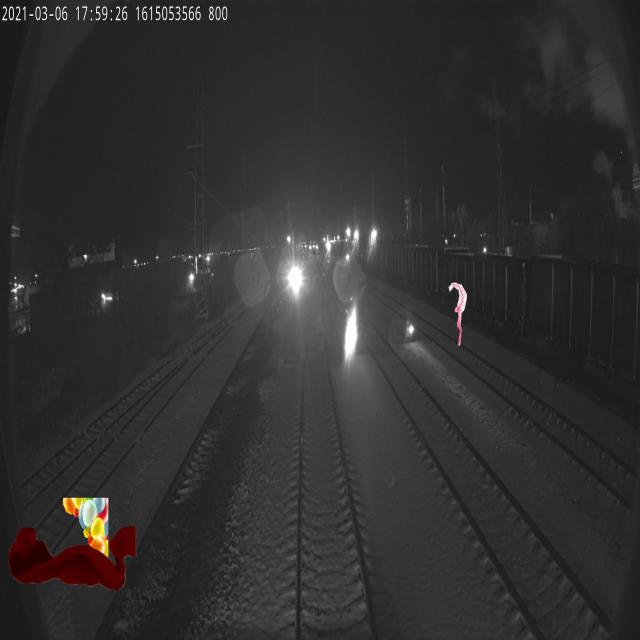balloon: (63, 497, 108, 561)
floating object: (8, 526, 136, 590), (448, 282, 468, 346)
